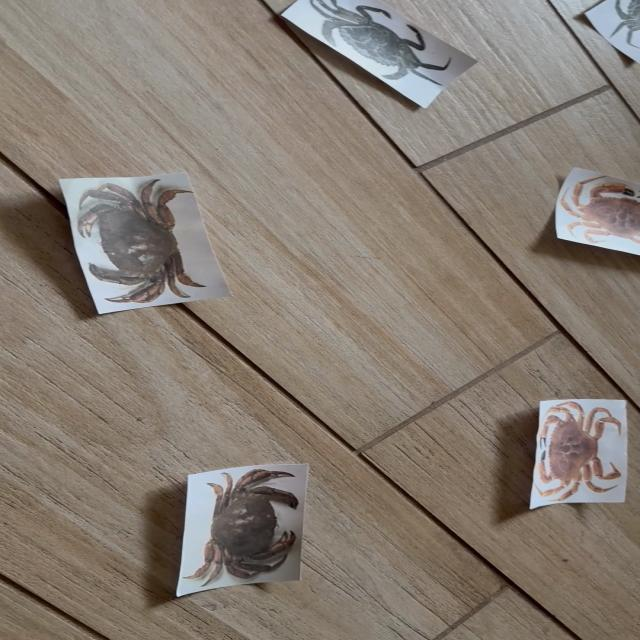egc: (281, 0, 476, 106), (585, 0, 639, 62)
